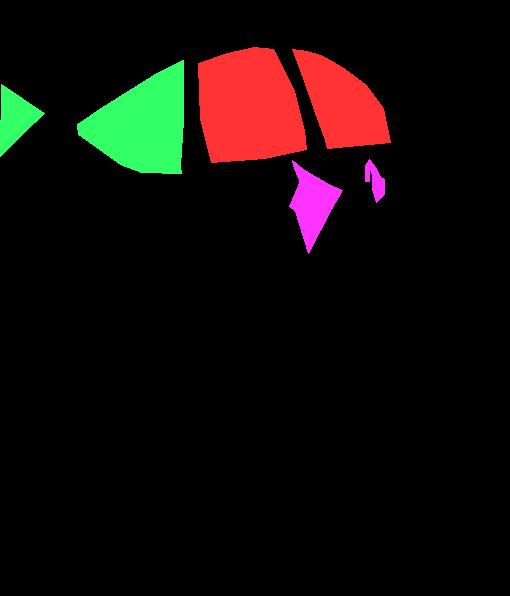Broken part: (77, 60, 183, 173), (0, 84, 44, 156)
Dent: (289, 169, 342, 253), (365, 159, 384, 202), (292, 160, 303, 180)
Missing part: (198, 47, 306, 162), (292, 49, 390, 148)
